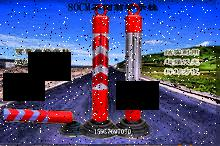bench: (121, 1, 146, 120), (90, 3, 110, 119)
